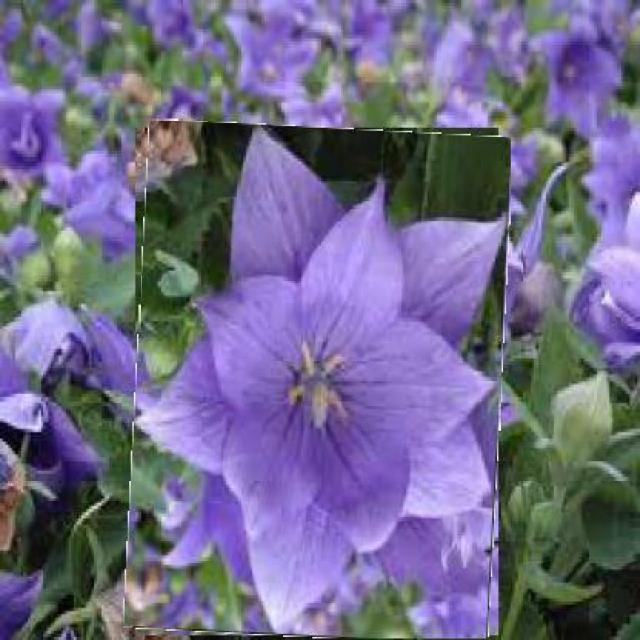Flower: (128, 123, 508, 639)
